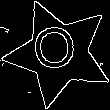O_S: (34, 26, 83, 81)
